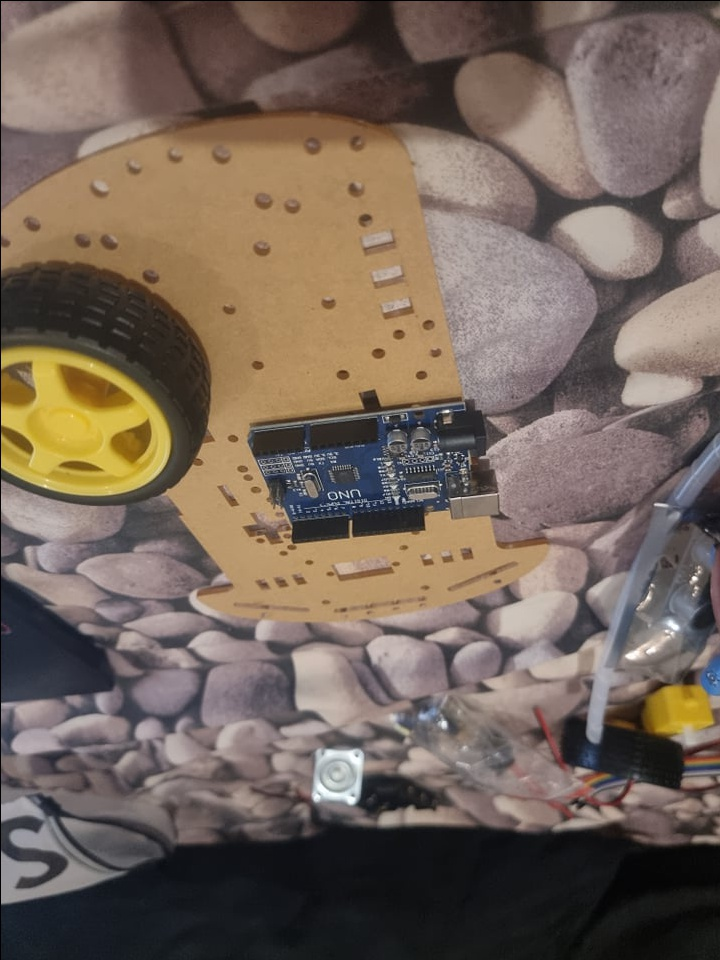5V EXPANSION: (240, 403, 500, 542)
BATTERY BOX: (359, 774, 440, 819)
